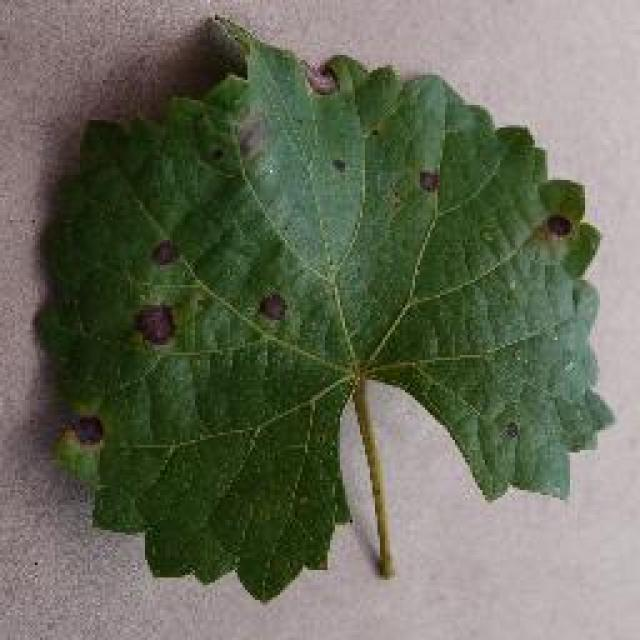Grape___Black_rot: (30, 11, 620, 608)
